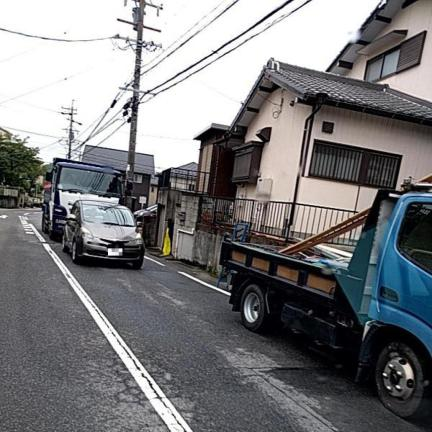Road: (0, 210, 427, 431)
